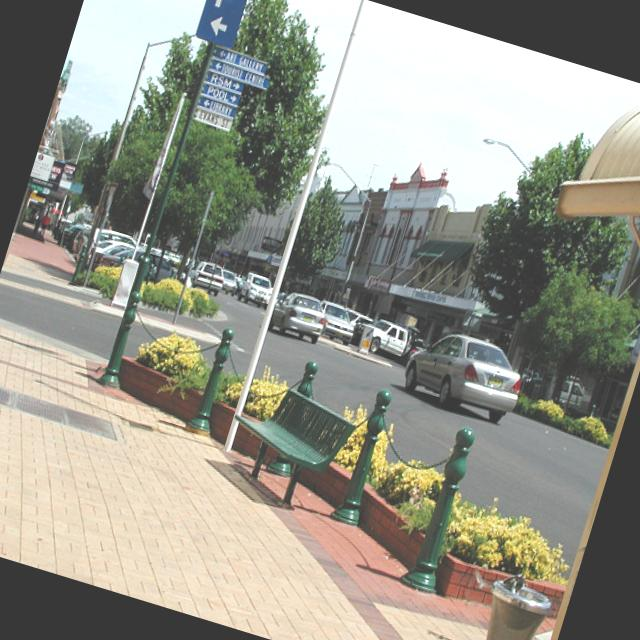Vehicle: (395, 320, 529, 427), (90, 234, 198, 300), (268, 287, 332, 346), (352, 314, 410, 361), (310, 298, 360, 346), (85, 233, 136, 280), (236, 270, 275, 310), (189, 258, 227, 297), (339, 308, 374, 348), (558, 376, 589, 408), (214, 268, 241, 298), (60, 223, 84, 251)
